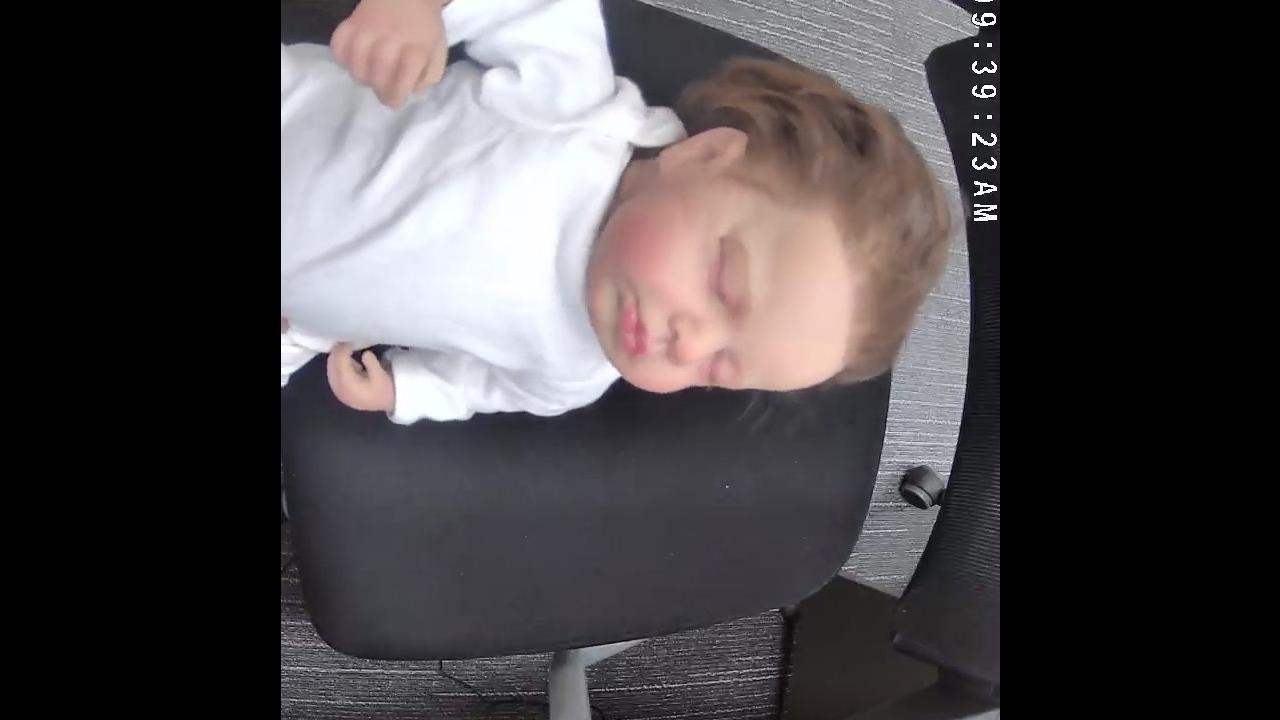hand: (329, 0, 447, 107), (327, 345, 389, 412)
